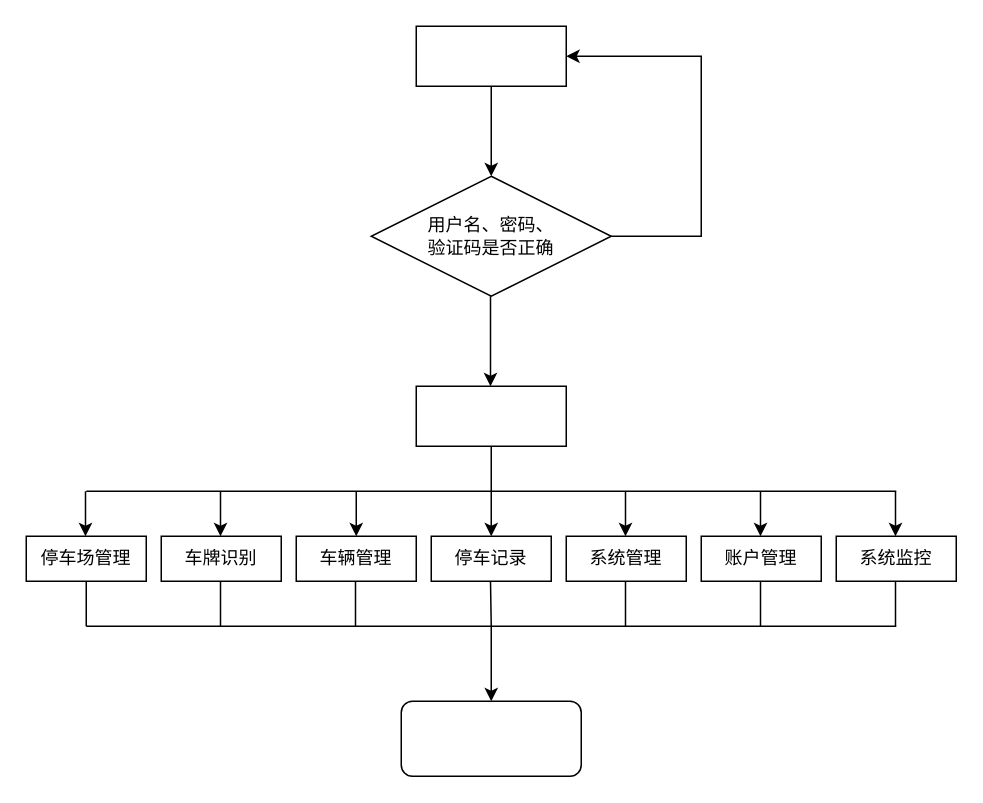
Image size: 983x803. Some labels were removed from this diagram. The centre of each missing label's shape, as x and y in pixels:
"管理员后台" goes at point 490,415.
"管理员登录" goes at point 490,55.
"退出后台" goes at point 490,738.
